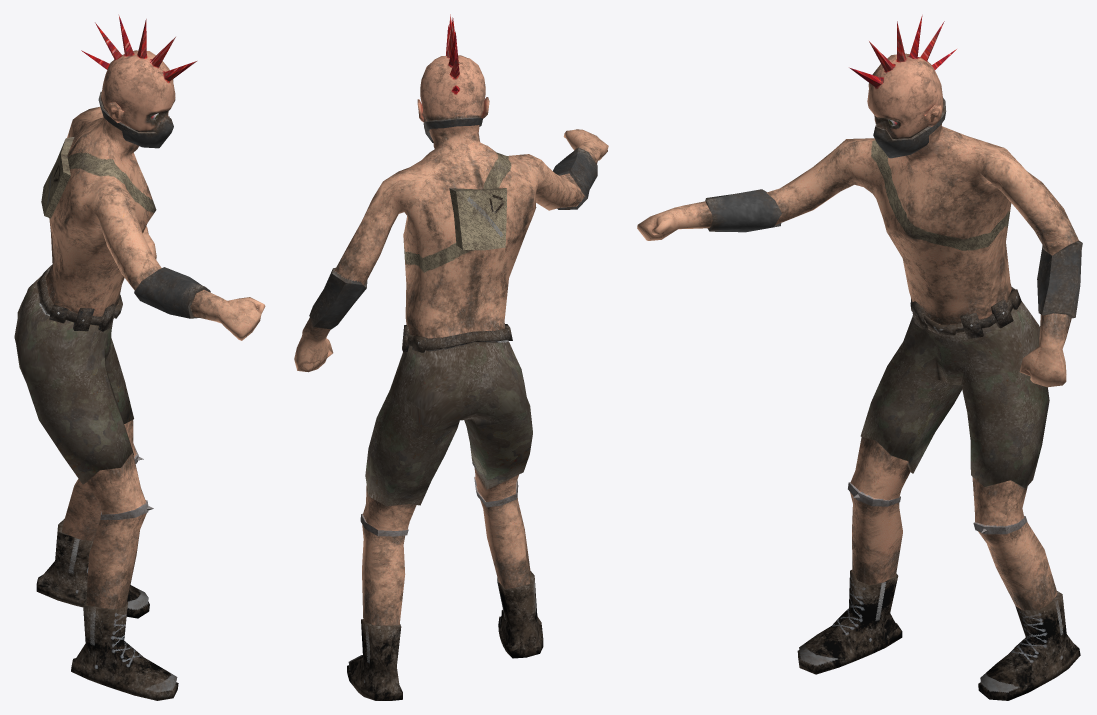
Rendered from Anim_interruptor_npc2.0026.obj.
3 views of the same model, side by side, from view 1: azimuth 30°, elevation 25°; view 2: azimuth 150°, elevation 25°; view 3: azimuth 270°, elevation 25° (orthographic). The views are drawn at different scales.
Visible parts, largest first — view 1: polySurface1; view 2: polySurface1; view 3: polySurface1.
Boxes of the visible parts, x1,y1,x2,y2 form: polySurface1: [14, 14, 265, 700]; polySurface1: [294, 14, 608, 700]; polySurface1: [637, 15, 1082, 700].
Bounding box in the file's own units: 2.89 × 9.86 × 6.05.
